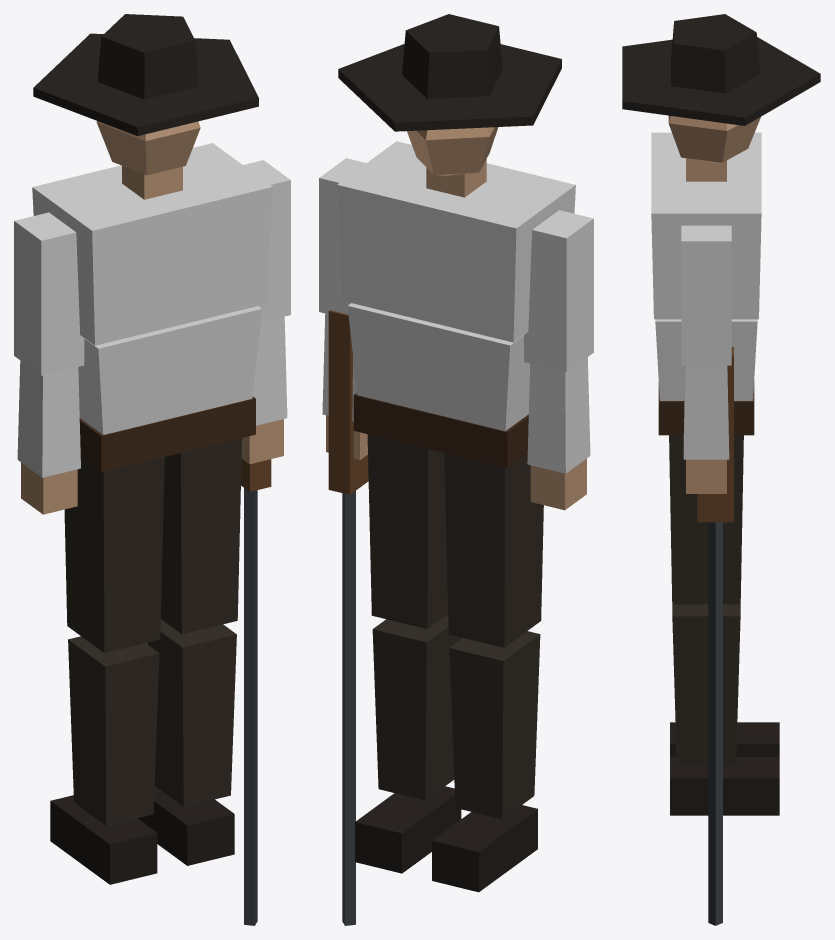
The model's file is soldier_em_musket_lod1.glb.
3 views of the same model, side by side, from view 1: azimuth 30°, elevation 25°; view 2: azimuth 150°, elevation 25°; view 3: azimuth 270°, elevation 25° (orthographic). The views are drawn at different scales.
Visible parts, largest first — view 1: em_musket_lod1_static; view 2: em_musket_lod1_static; view 3: em_musket_lod1_static.
Boxes of the visible parts, box(x1,y1,x2,y2) form: em_musket_lod1_static: box(14, 14, 290, 925); em_musket_lod1_static: box(319, 14, 593, 925); em_musket_lod1_static: box(622, 14, 820, 925).
Size of the model in its own units: 0.58 by 2.04 by 0.4342.
